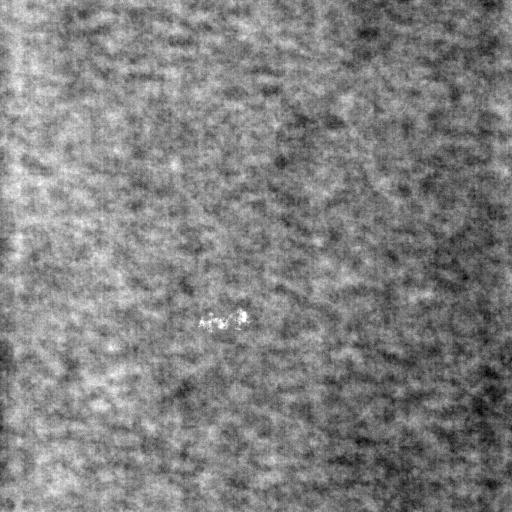DefectTypeA: (195, 306, 252, 333)
